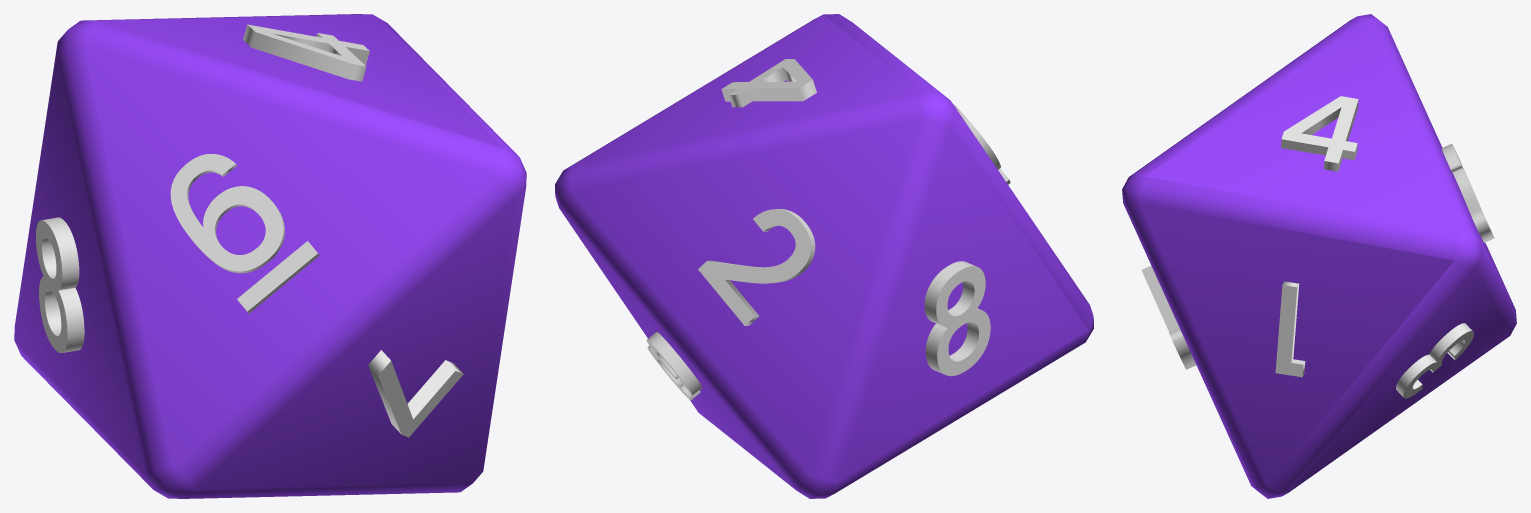
3 renders of one model, left to right at view 1: azimuth 30°, elevation 25°; view 2: azimuth 150°, elevation 25°; view 3: azimuth 270°, elevation 25°, orthographic. The views are drawn at different scales.
Parts seen in each view (by area): view 1: d8, d8_numbers; view 2: d8, d8_numbers; view 3: d8, d8_numbers.
Boxes of the visible parts, box(x1,y1,x2,y2) form: d8: box(14, 14, 526, 498); d8_numbers: box(36, 24, 463, 437); d8: box(555, 14, 1093, 498); d8_numbers: box(646, 59, 1010, 400); d8: box(1122, 14, 1516, 498); d8_numbers: box(1141, 96, 1494, 398).
Size of the model in its own units: 0.5222 by 0.5753 by 0.5575.
